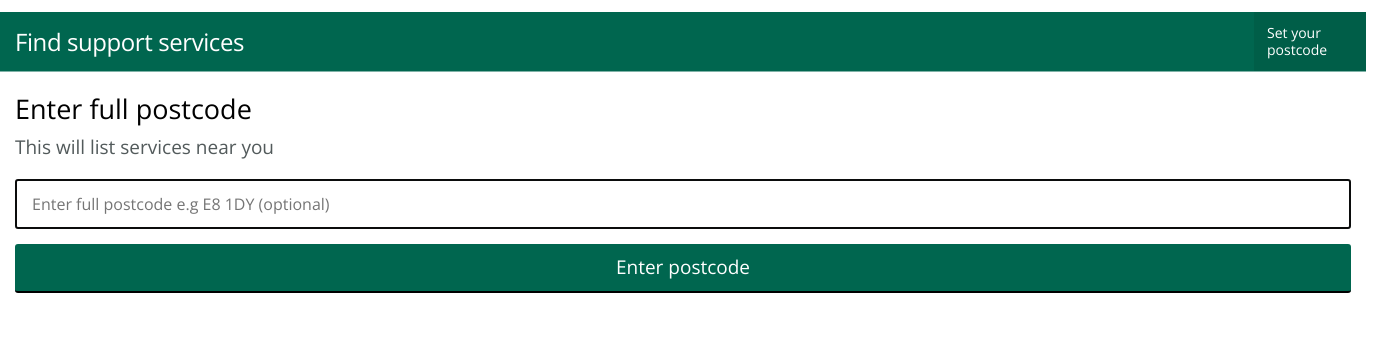
it: SetPostcode › shows validation error for invalid postcode
Step 1. Type "INVALID" into the field labelled "postcode" → (683, 204), box [15, 178, 1351, 228]
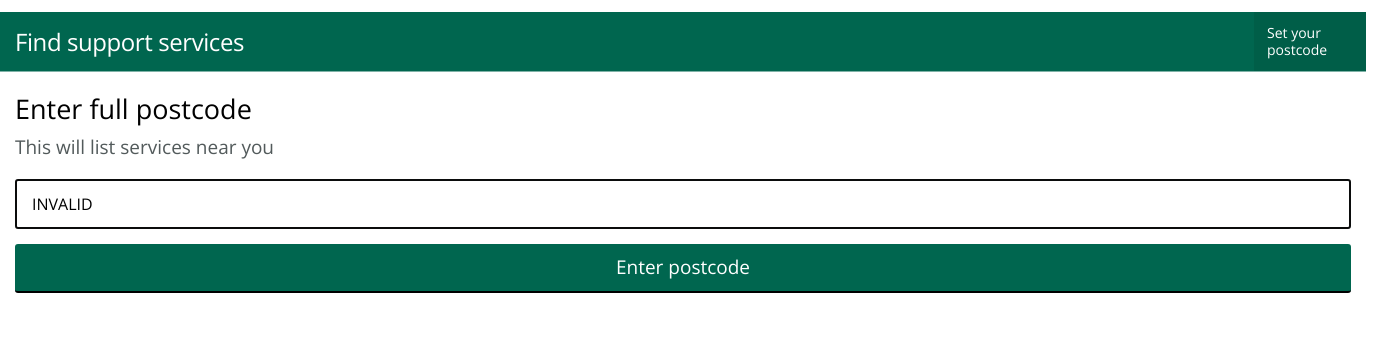
Step 2. Click the button "Enter postcode" → (683, 268), box [15, 244, 1351, 293]
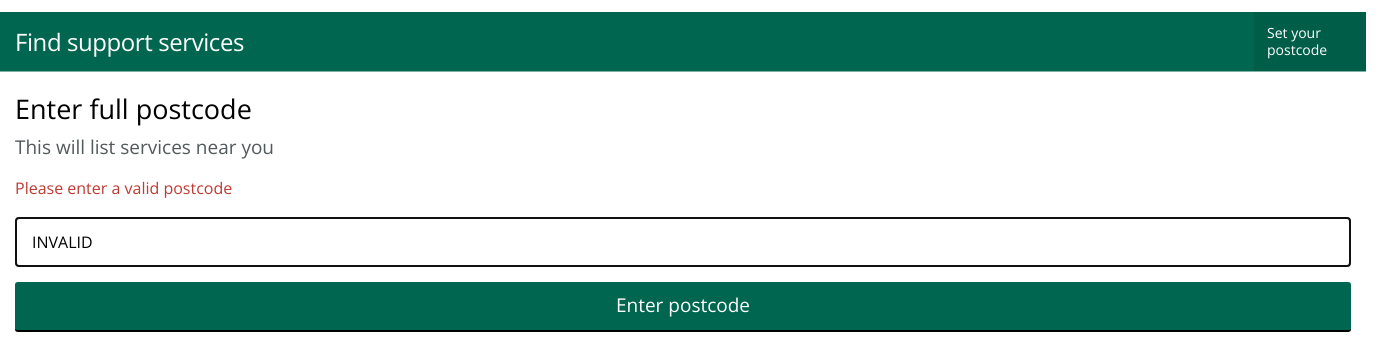
Now the message shows "valid postcode", box [15, 176, 232, 198]
